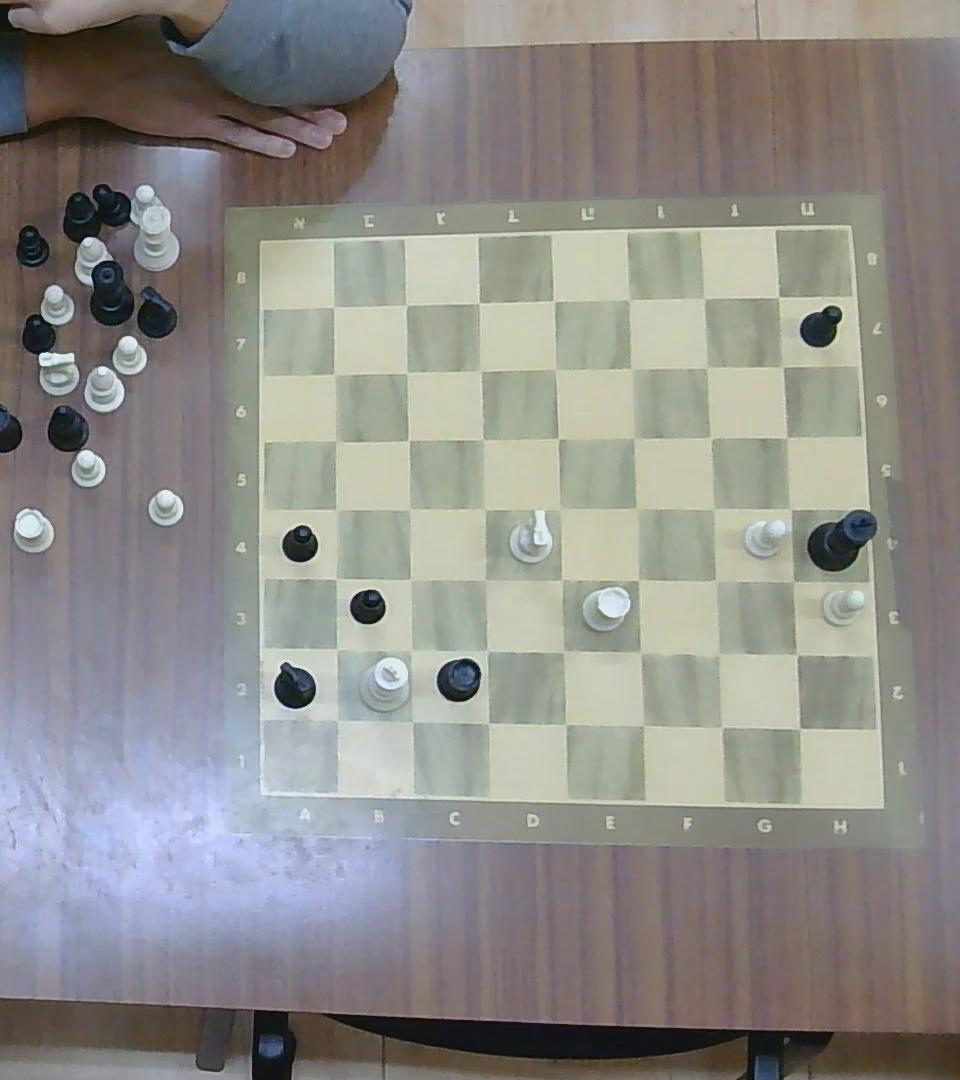xcorner: (701, 638, 735, 670), (626, 707, 658, 740), (548, 706, 580, 738), (705, 710, 736, 743), (625, 635, 656, 667), (783, 711, 814, 743), (471, 706, 502, 738), (320, 703, 352, 734), (471, 634, 502, 665), (548, 635, 578, 667), (396, 705, 428, 735), (622, 563, 652, 594), (781, 639, 812, 669), (396, 634, 427, 664), (320, 634, 351, 664), (615, 283, 645, 313), (700, 565, 730, 595), (622, 494, 652, 524), (320, 563, 350, 593), (548, 563, 577, 594), (465, 286, 494, 317), (698, 493, 728, 522), (776, 493, 806, 522), (618, 353, 648, 382), (545, 493, 574, 522), (471, 564, 500, 593), (542, 353, 571, 382), (392, 289, 421, 318), (320, 292, 349, 321), (540, 285, 568, 315), (470, 495, 499, 523), (621, 422, 649, 451), (469, 424, 497, 453), (777, 566, 806, 594), (693, 352, 722, 380), (393, 357, 422, 385), (545, 424, 573, 452), (467, 355, 495, 383), (691, 284, 719, 312), (698, 422, 725, 451), (395, 426, 423, 453), (396, 495, 423, 523), (769, 352, 797, 379), (772, 422, 800, 448), (321, 361, 349, 387), (396, 566, 424, 591), (323, 427, 349, 453), (324, 496, 350, 522), (767, 285, 791, 308)
